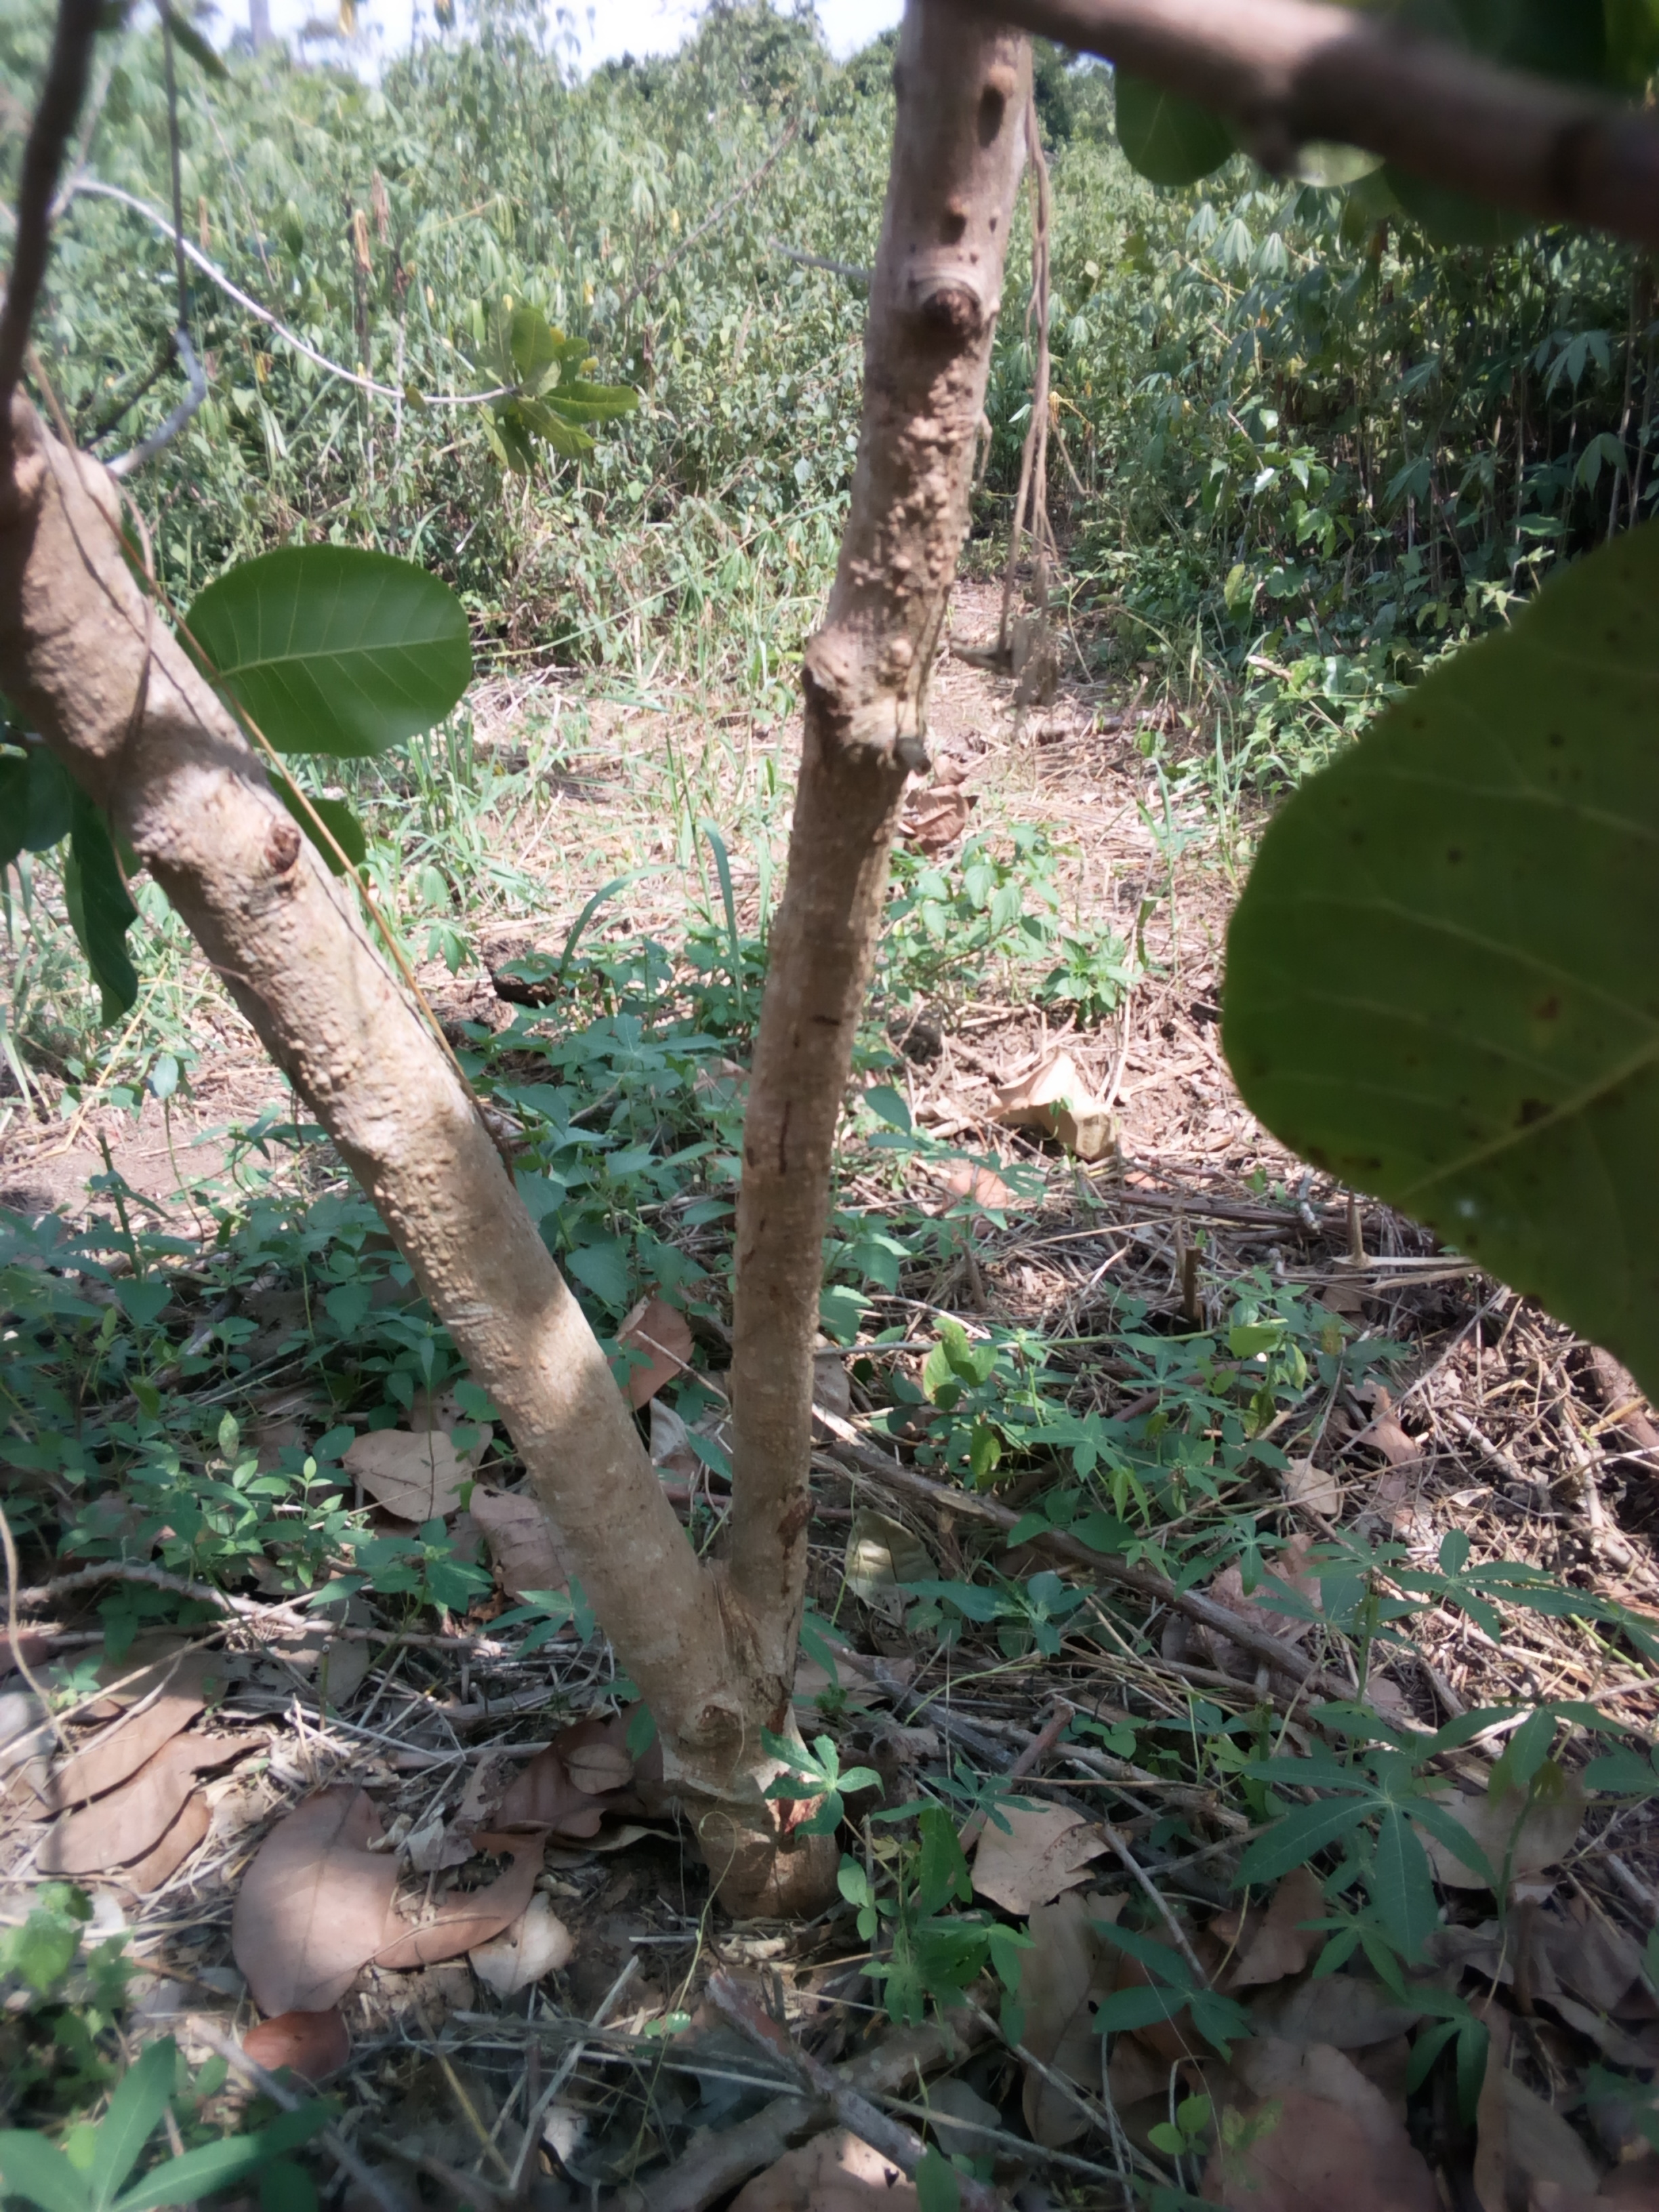Termites: (802, 59, 1016, 784)
